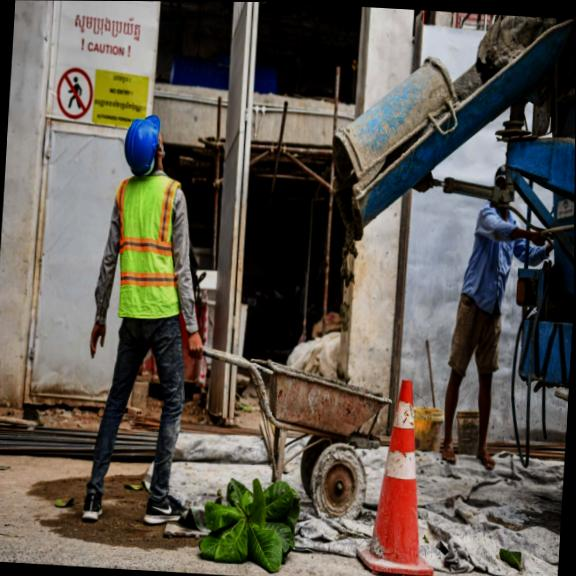safety_vest: (102, 161, 194, 332)
